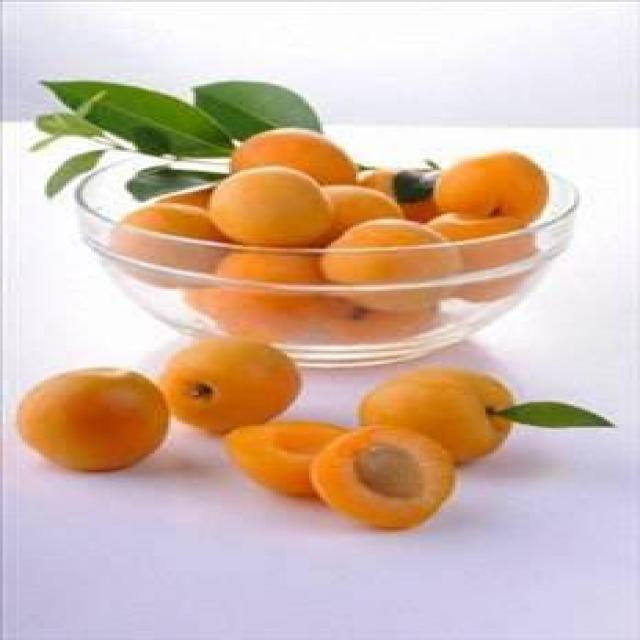kayisi: (14, 324, 313, 512), (326, 364, 596, 532), (245, 122, 524, 250)
yaprak: (18, 68, 236, 162)
